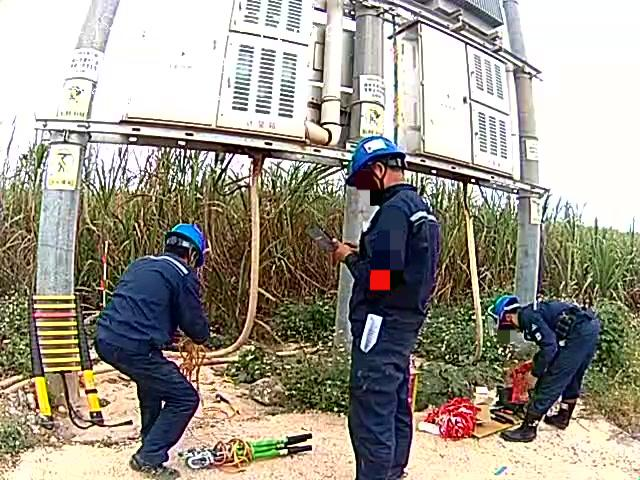halt: (352, 138, 410, 201), (166, 225, 210, 270), (496, 297, 525, 334)
inear: (369, 161, 393, 197)
